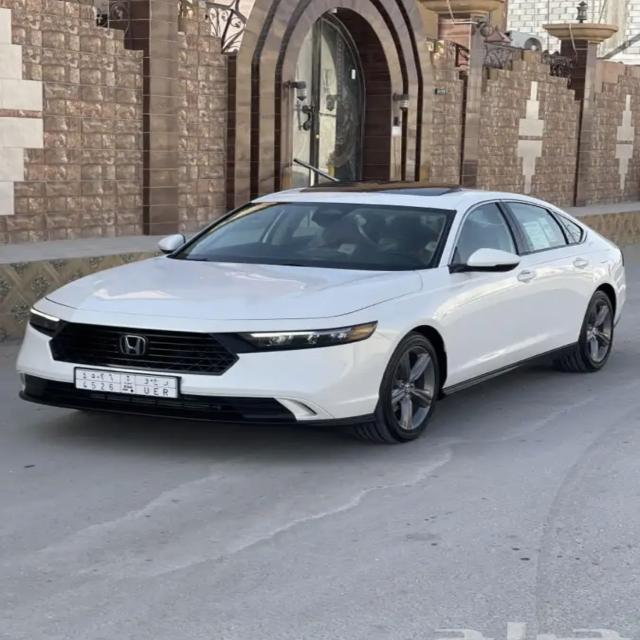license_plate: (74, 366, 179, 400)
